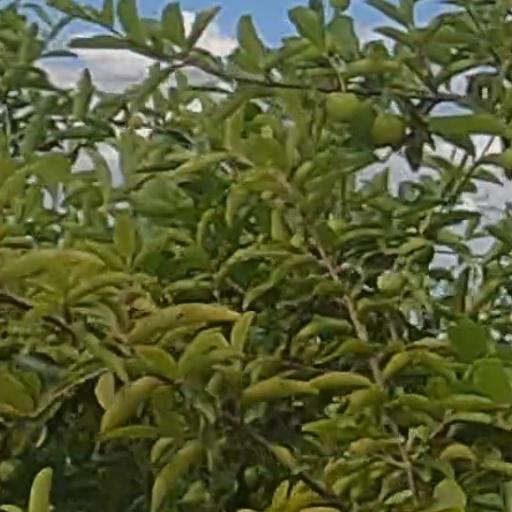acerola_verde: (324, 92, 360, 124), (373, 114, 406, 146)
